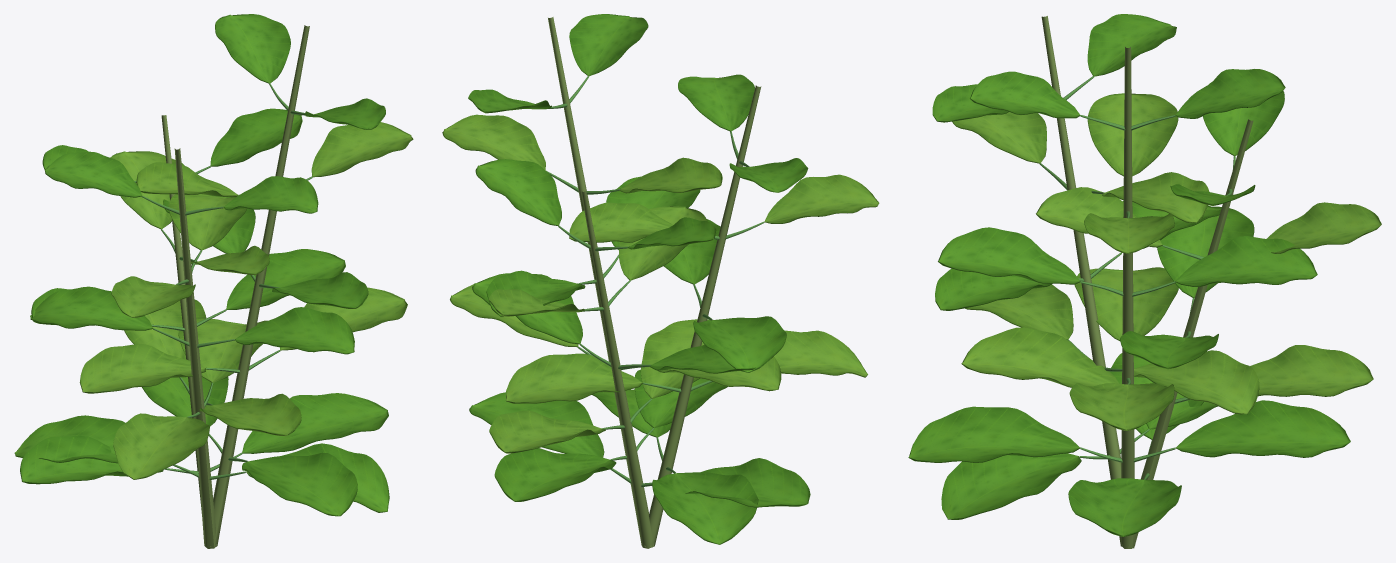
The model's file is herbs-basil-mobile.glb.
3 views of the same model, side by side, from view 1: azimuth 30°, elevation 25°; view 2: azimuth 150°, elevation 25°; view 3: azimuth 270°, elevation 25° (orthographic). The views are drawn at different scales.
Visible parts, largest first — view 1: Herbs · Basil; view 2: Herbs · Basil; view 3: Herbs · Basil.
Part boxes in pixels (left/top/right/bottom): Herbs · Basil: left=14, top=14, right=413, bottom=548; Herbs · Basil: left=442, top=14, right=879, bottom=548; Herbs · Basil: left=908, top=14, right=1381, bottom=548.
Size of the model in its own units: 0.2524 by 0.3212 by 0.2494.
Materials: 4 (2 with a texture image).
